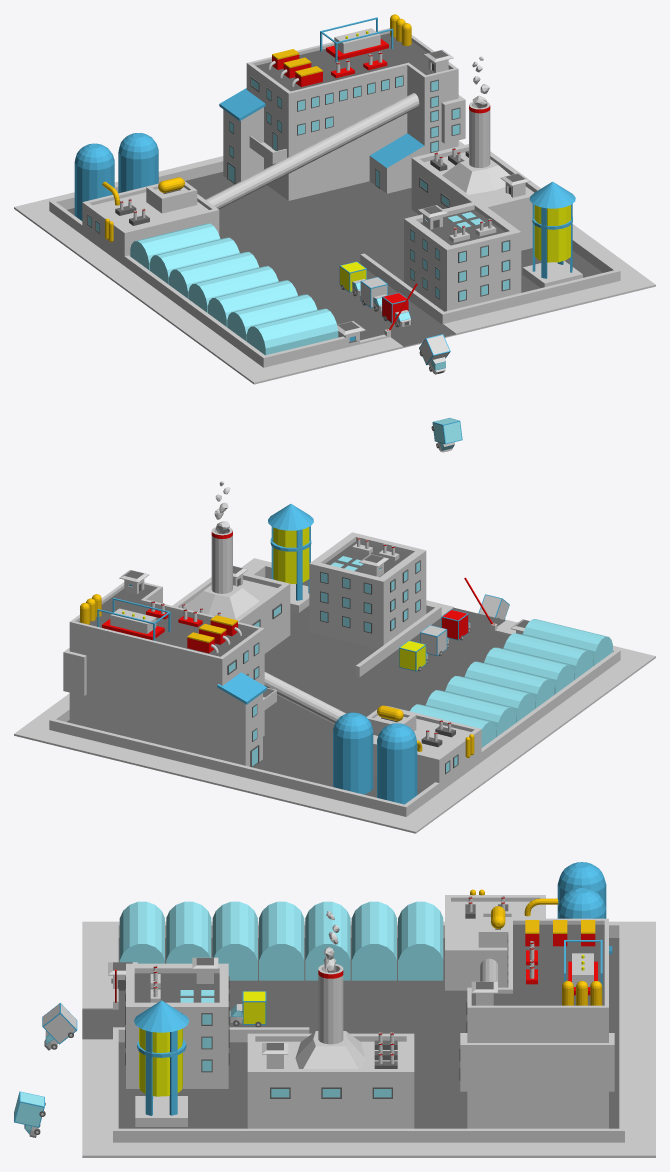
File: low_poly_factory.glb
3 views of the same model, one above another, from view 1: azimuth 30°, elevation 25°; view 2: azimuth 150°, elevation 25°; view 3: azimuth 270°, elevation 25° (orthographic). The views are drawn at different scales.
Visible parts, largest first — view 1: Factory_001, Car_001; view 2: Factory_001, Car_001; view 3: Factory_001, Car_001, Cloud_001.
Boxes of the visible parts, bbox=[...] form: Factory_001: bbox=[14, 14, 655, 384]; Car_001: bbox=[339, 261, 462, 452]; Factory_001: bbox=[14, 504, 655, 833]; Car_001: bbox=[399, 594, 509, 671]; Factory_001: bbox=[82, 862, 655, 1157]; Car_001: bbox=[14, 991, 266, 1137]; Cloud_001: bbox=[324, 911, 339, 972].
Size of the model in its own units: 13.62 by 8.6 by 15.78.
Materials: 1 (1 with a texture image).
